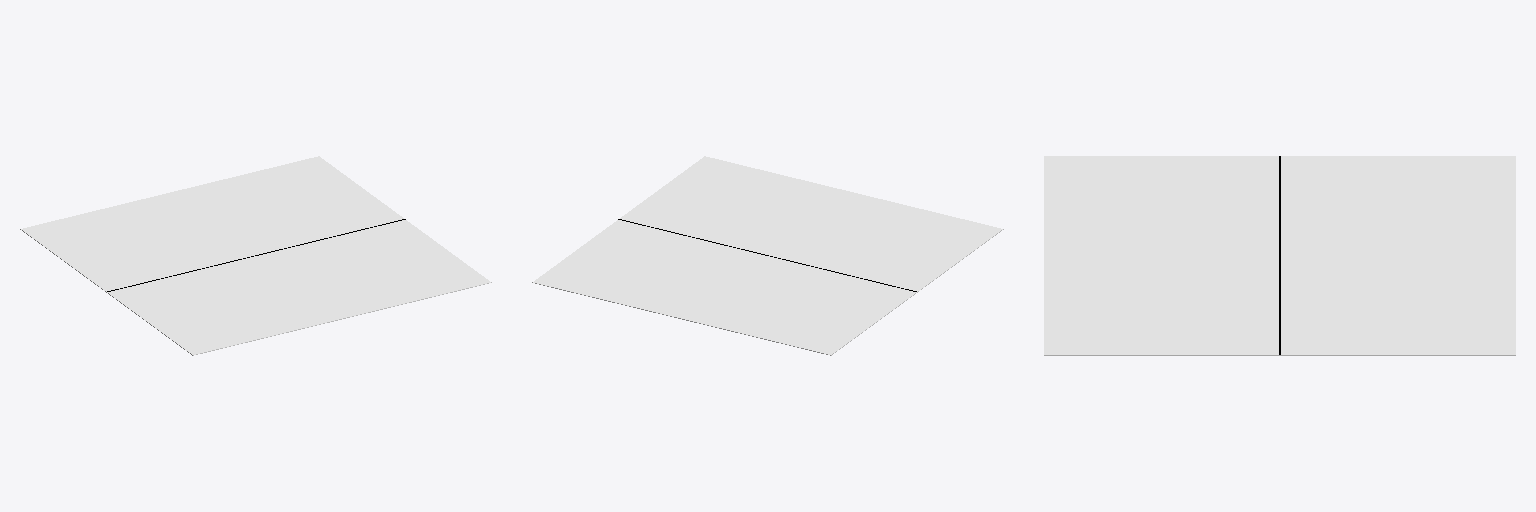
URDF robot description (line_world):
<?xml version="1.0"?>
<robot name="line_world">

  <!-- Ground plane -->
  <link name="ground">
    <visual>
      <origin xyz="0 0 0" rpy="0 0 0"/>
      <geometry>
        <box size="5 5 0.01"/> <!-- 5m x 5m flat plane -->
      </geometry>
      <material name="white">
        <color rgba="1 1 1 1"/>
      </material>
    </visual>
    <collision>
      <origin xyz="0 0 0" rpy="0 0 0"/>
      <geometry>
        <box size="5 5 0.01"/>
      </geometry>
    </collision>
    <inertial>
      <mass value="1.0"/>
      <inertia ixx="0.1" ixy="0.0" ixz="0.0" iyy="0.1" iyz="0.0" izz="0.1"/>
    </inertial>
  </link>

  <!-- Line: 26mm wide black stripe -->
  <link name="line">
    <visual>
      <origin xyz="0 0.0 0.0051" rpy="0 0 0"/> <!-- Slightly above the ground -->
      <geometry>
        <box size="5 0.026 0.001"/> <!-- Length 5m, Width 26mm, Thin -->
      </geometry>
      <material name="black">
        <color rgba="0 0 0 1"/>
      </material>
    </visual>
    <collision>
      <origin xyz="0 0.0 0.0051" rpy="0 0 0"/>
      <geometry>
        <box size="5 0.026 0.001"/>
      </geometry>
    </collision>
    <inertial>
      <mass value="0.1"/>
      <inertia ixx="0.01" ixy="0.0" ixz="0.0" iyy="0.01" iyz="0.0" izz="0.01"/>
    </inertial>
  </link>

  <!-- Fix the line to the ground -->
  <joint name="line_to_ground" type="fixed">
    <parent link="ground"/>
    <child link="line"/>
    <origin xyz="0 0 0" rpy="0 0 0"/>
  </joint>

</robot>

--- What the picture shows (computed from the rendered views, not written in the file) ---
3 views of the same robot in one strip: view 1: azimuth 30°, elevation 25°; view 2: azimuth 150°, elevation 25°; view 3: azimuth 270°, elevation 25° (orthographic).
Robot: line_world — 2 links, 1 joints (1 fixed); root link ground; default pose: every joint at zero.
Links seen in each view (by area): view 1: ground; view 2: ground; view 3: ground.
Link boxes in pixels (bbox=[...]): ground: bbox=[20, 156, 491, 355]; ground: bbox=[532, 156, 1003, 355]; ground: bbox=[1044, 156, 1515, 355].
Bounding box of the posed robot: 5 × 5 × 0.0106 m (x, y, z).
Geometry: primitives only (box / cylinder / sphere), no mesh files.
